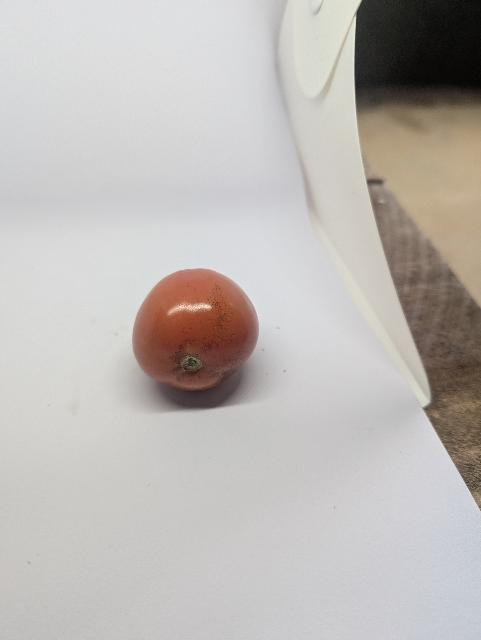red: (123, 255, 287, 408)
